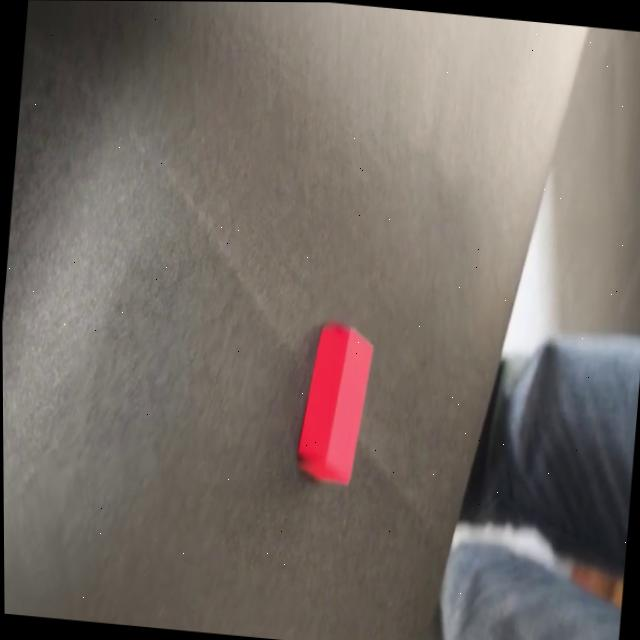red block: (293, 318, 376, 487)
